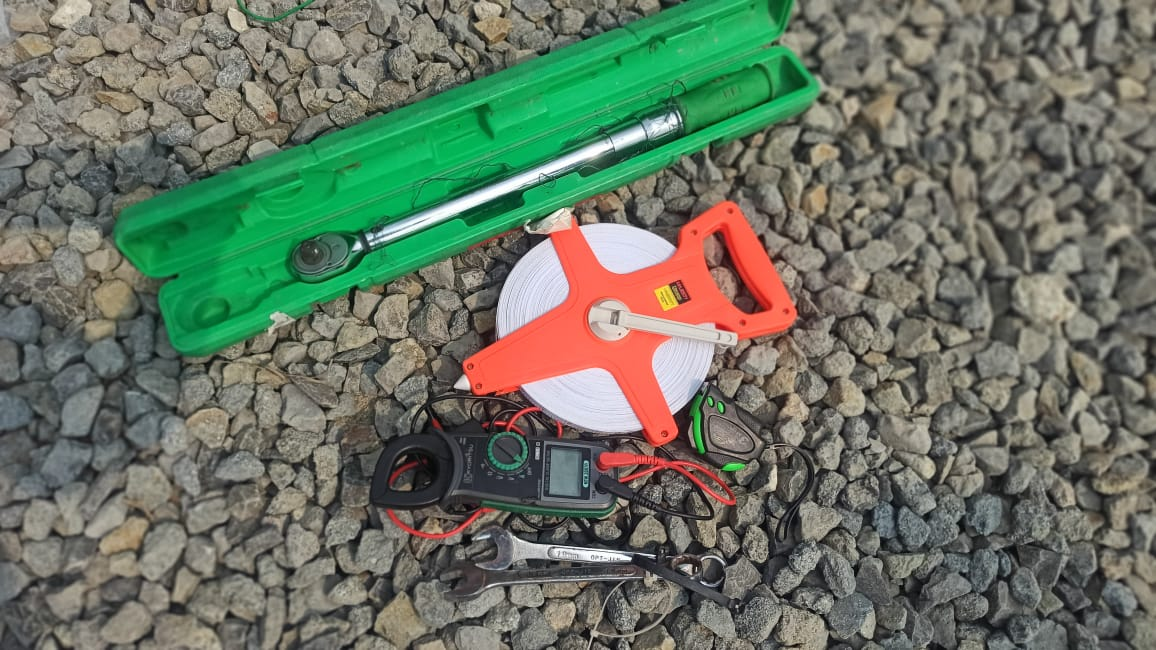TANG_AMPERE: (367, 420, 625, 521)
